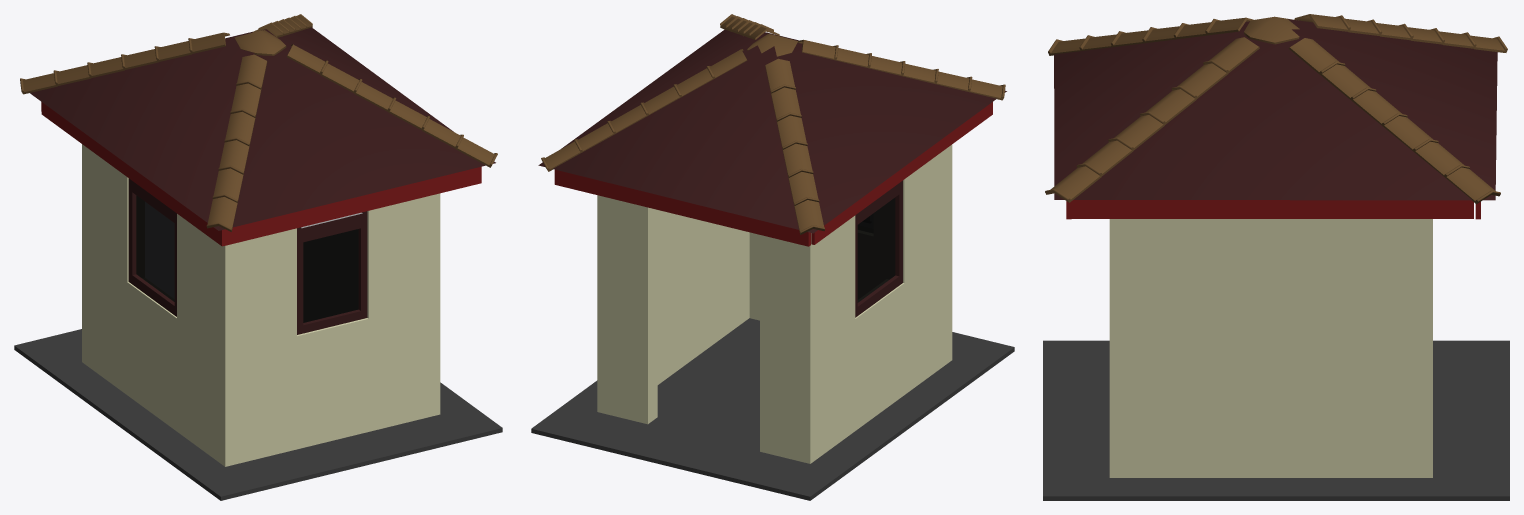
The model's file is securitypost.fbx.
The picture shows the model from 3 angles, left to right: view 1: azimuth 30°, elevation 25°; view 2: azimuth 150°, elevation 25°; view 3: azimuth 270°, elevation 25°; orthographic projection. The views are drawn at different scales.
Visible parts, largest first — view 1: pCube1, pPlane1, pCube31, pCube33, pCube34, pCube27, pCube30, pCube20, pCube14, pCube19, pCube17, pCube16 (+9 smaller); view 2: pCube1, pPlane1, pCube31, pCube34, pCube28, pCube30, pCube2, pCube7, pCube5, pCube3, pCube6, pCube4 (+6 smaller); view 3: pCube1, pPlane1, pCube31, pCube29, pCube20, pCube21, pCube26, pCube13, pCube8, pCube25, pCube23, pCube22 (+7 smaller).
Part boxes in pixels (<box>): pCube1: <box>82,144,440,466</box>; pPlane1: <box>30,27,495,230</box>; pCube31: <box>14,329,502,500</box>; pCube33: <box>297,211,367,334</box>; pCube34: <box>128,178,176,316</box>; pCube27: <box>224,166,481,245</box>; pCube30: <box>41,102,224,246</box>; pCube20: <box>234,30,286,55</box>; pCube14: <box>206,197,237,231</box>; pCube19: <box>236,54,267,89</box>; pCube17: <box>224,111,255,146</box>; pCube16: <box>218,140,249,174</box>; pCube1: <box>597,144,952,463</box>; pPlane1: <box>538,29,1006,233</box>; pCube31: <box>531,318,1014,500</box>; pCube34: <box>855,180,902,317</box>; pCube28: <box>554,169,810,246</box>; pCube30: <box>811,102,992,244</box>; pCube2: <box>794,200,824,234</box>; pCube7: <box>765,58,795,93</box>; pCube5: <box>777,115,807,150</box>; pCube3: <box>788,172,819,206</box>; pCube6: <box>771,87,801,121</box>; pCube4: <box>783,143,813,177</box>; pCube1: <box>1109,219,1432,477</box>; pPlane1: <box>1054,19,1497,200</box>; pCube31: <box>1043,340,1509,500</box>; pCube29: <box>1071,200,1473,218</box>; pCube20: <box>1244,16,1299,44</box>; pCube21: <box>1045,166,1101,202</box>; pCube26: <box>1203,37,1259,73</box>; pCube13: <box>1289,38,1345,74</box>; pCube8: <box>1445,167,1500,204</box>; pCube25: <box>1171,63,1227,99</box>; pCube23: <box>1108,115,1164,150</box>; pCube22: <box>1076,140,1133,176</box>.
Size of the model in its own units: 29.42 by 34.87 by 36.23.
